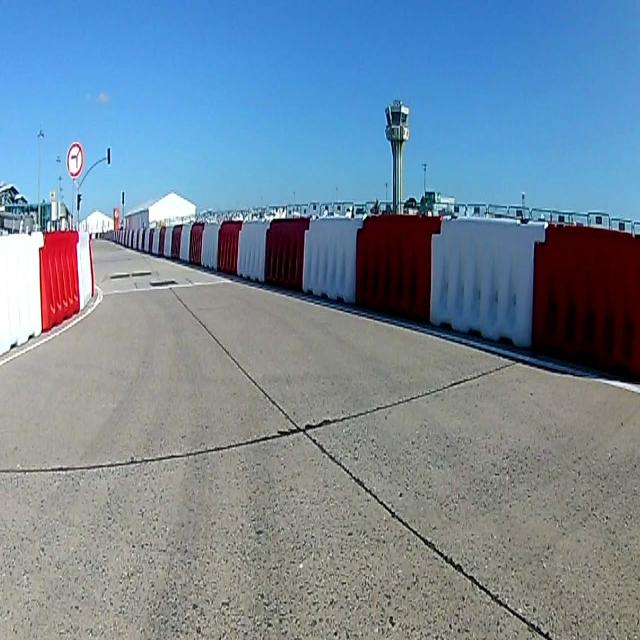soladonulmez: (66, 138, 84, 181)
